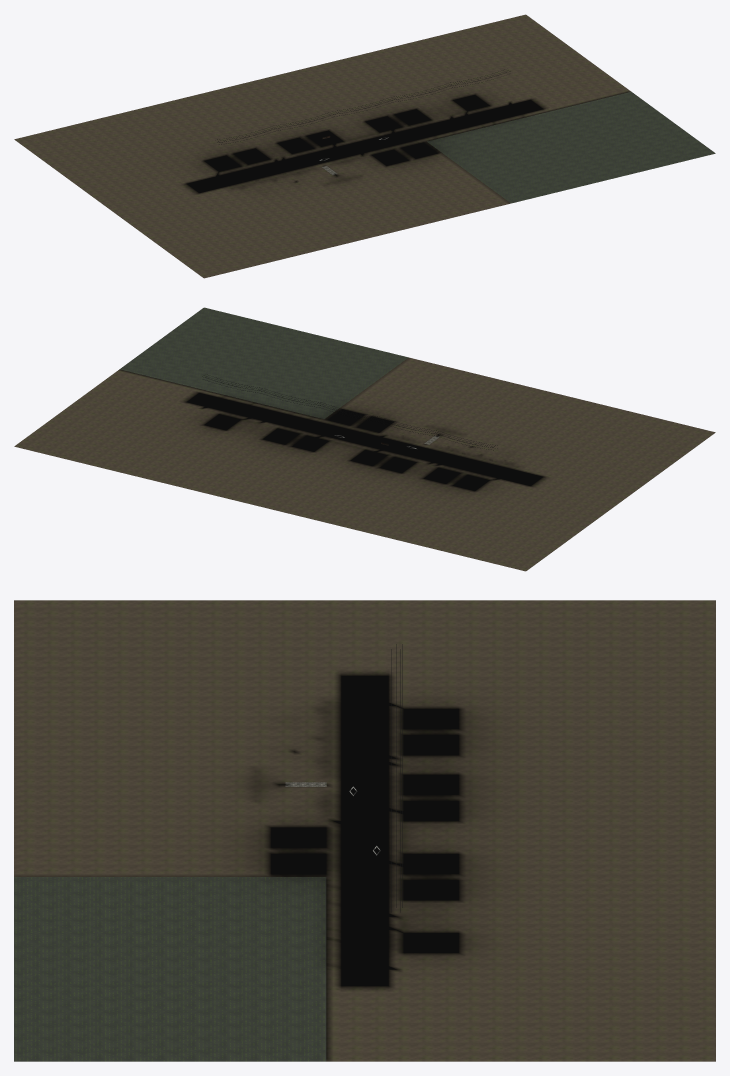
File: street.glb
3 views of the same model, one above another, from view 1: azimuth 30°, elevation 25°; view 2: azimuth 150°, elevation 25°; view 3: azimuth 270°, elevation 25° (orthographic). The views are drawn at different scales.
Parts seen in each view (by area): view 1: ground, power_lines; view 2: ground, power_lines; view 3: ground, power_lines.
Part boxes in pixels (x1=…): ground: x1=14, y1=14, x2=715, y2=278; power_lines: x1=217, y1=69, x2=510, y2=144; ground: x1=14, y1=307, x2=715, y2=571; power_lines: x1=202, y1=374, x2=497, y2=450; ground: x1=14, y1=600, x2=715, y2=1061; power_lines: x1=391, y1=644, x2=402, y2=912.
Size of the model in its own units: 140 by 8.64 by 90.
8 materials, 8 textured.
